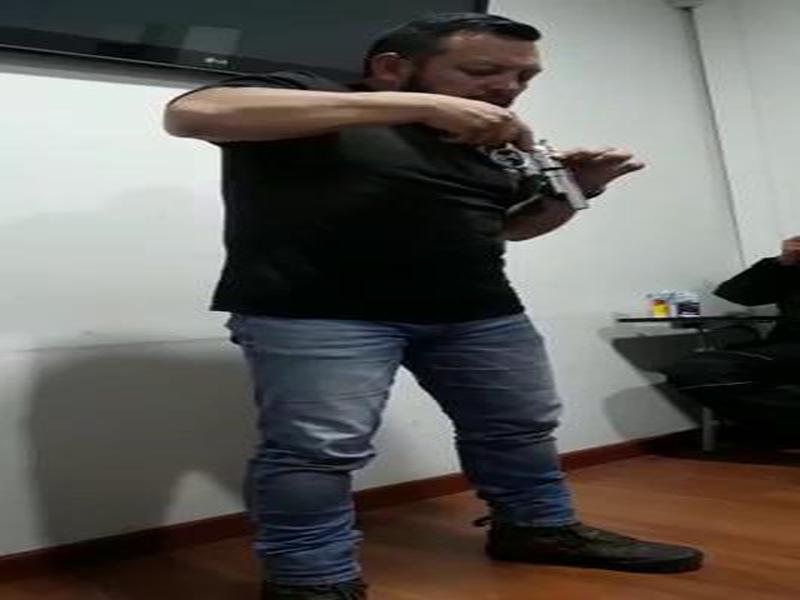Revolver: (495, 121, 607, 237)
